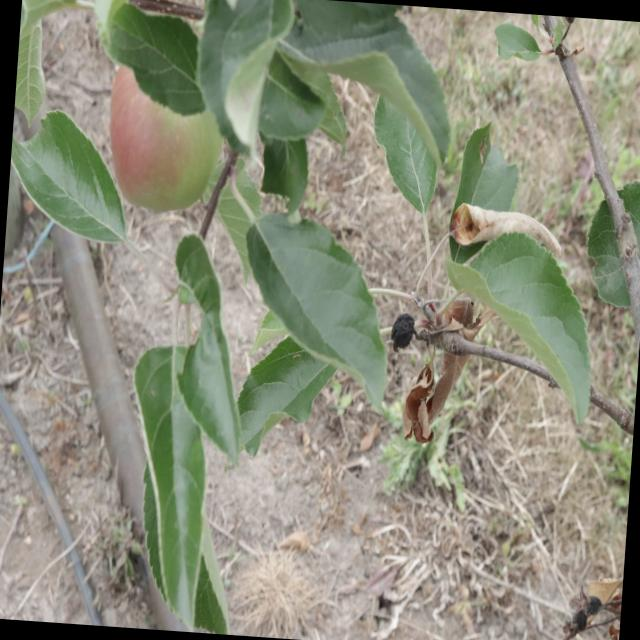-FireBlight-: (399, 284, 479, 450), (442, 200, 563, 253)
